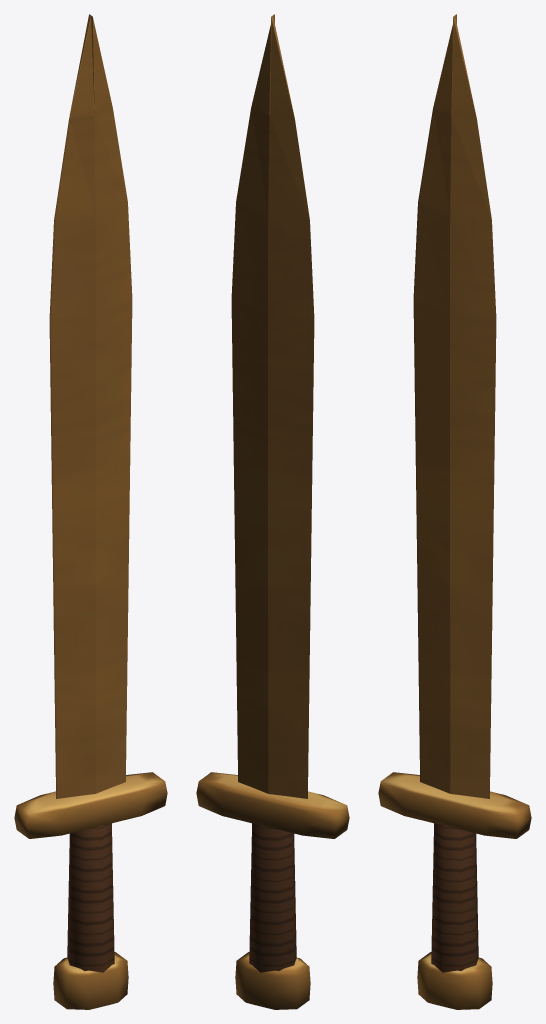
The model's file is xiphos.glb.
3 renders of one model, left to right at view 1: azimuth 30°, elevation 25°; view 2: azimuth 150°, elevation 25°; view 3: azimuth 330°, elevation 25°, orthographic.
Visible parts, largest first — view 1: xiphos; view 2: xiphos; view 3: xiphos.
Part boxes in pixels (x1=…): xiphos: x1=14, y1=14, x2=167, y2=1009; xiphos: x1=196, y1=14, x2=349, y2=1009; xiphos: x1=378, y1=14, x2=531, y2=1009.
Bounding box in the file's own units: 0.1049 × 0.705 × 0.0329.
1 material, 1 textured.
